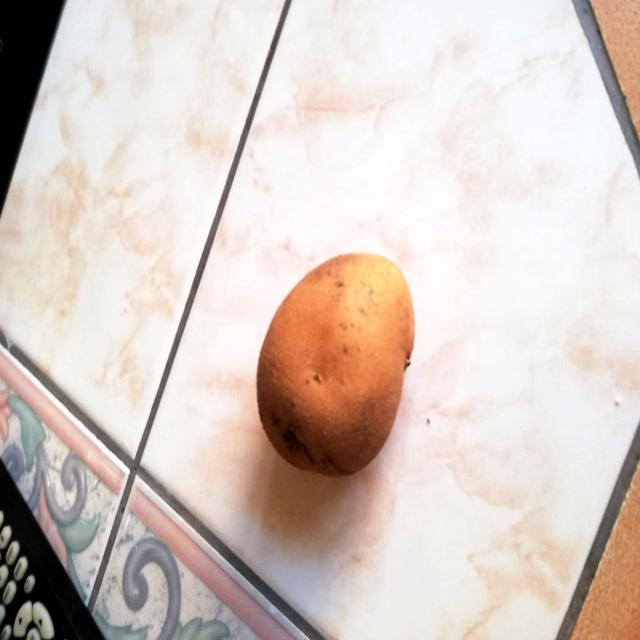potato: (250, 234, 428, 484)
